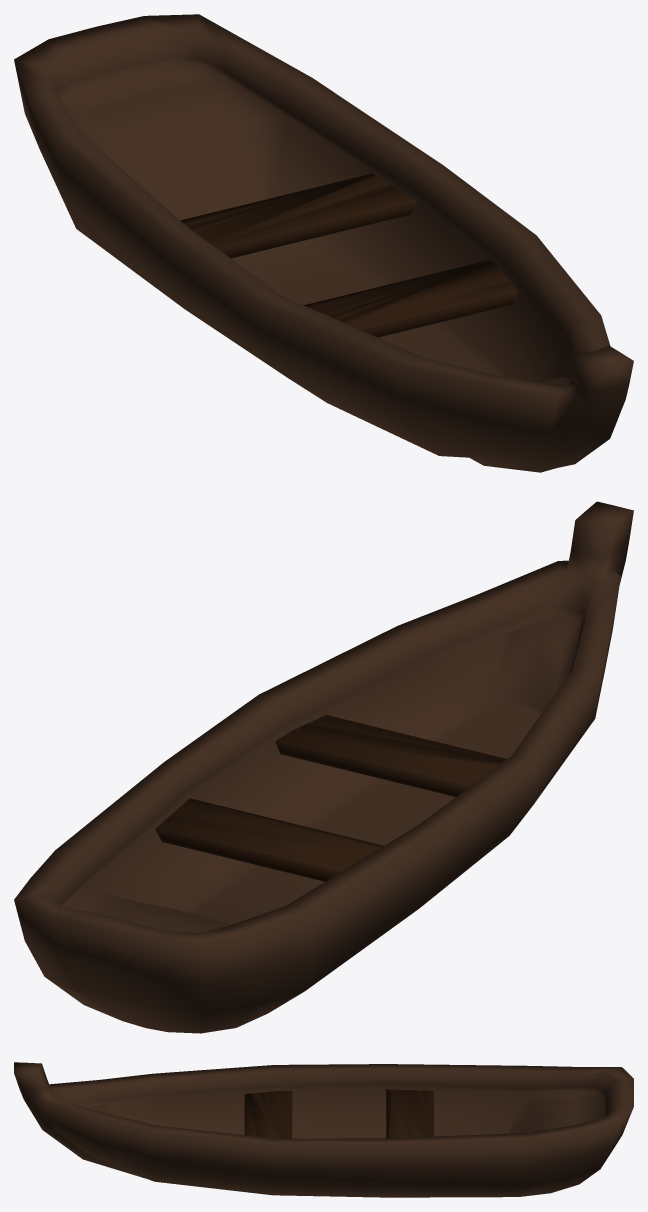
The model's file is BOAT.fbx.
The picture shows the model from 3 angles, top to bottom: view 1: azimuth 30°, elevation 25°; view 2: azimuth 150°, elevation 25°; view 3: azimuth 270°, elevation 25°; orthographic projection. The views are drawn at different scales.
Parts seen in each view (by area): view 1: boat LP, plank 3, plank 2; view 2: boat LP, plank 2, plank 3; view 3: boat LP, plank 3, plank 2.
Part boxes in pixels (x1=…): boat LP: x1=14, y1=14, x2=633, y2=472; plank 3: x1=180, y1=173, x2=417, y2=258; plank 2: x1=304, y1=260, x2=518, y2=337; boat LP: x1=14, y1=501, x2=633, y2=1033; plank 2: x1=275, y1=715, x2=506, y2=796; plank 3: x1=155, y1=798, x2=383, y2=881; boat LP: x1=14, y1=1062, x2=633, y2=1197; plank 3: x1=386, y1=1089, x2=433, y2=1138; plank 2: x1=244, y1=1091, x2=292, y2=1138.
Size of the model in its own units: 454 by 305 by 1463.
